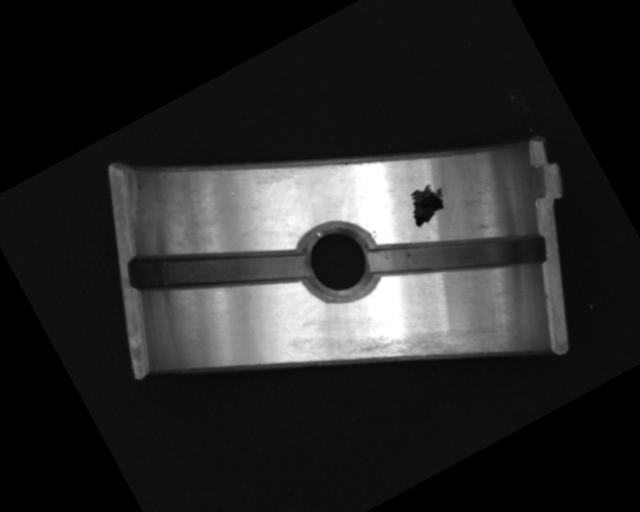blot: (400, 176, 456, 230)
gap: (124, 189, 312, 349), (365, 179, 552, 335)
hole: (285, 208, 392, 318)
scratch: (336, 282, 508, 421)
